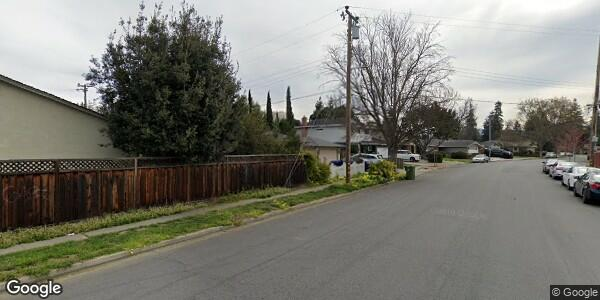Wood_Pole: (338, 5, 362, 186), (73, 81, 99, 107)
